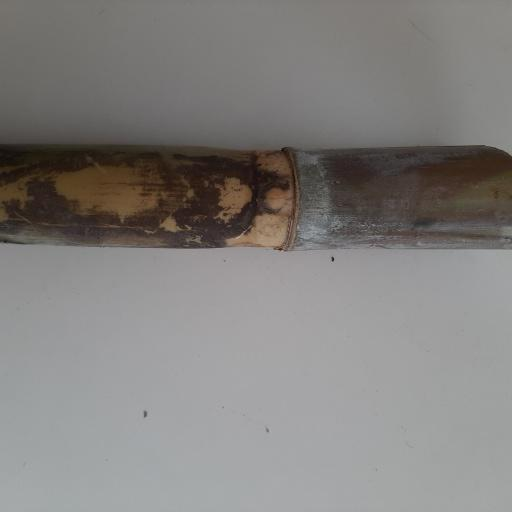Bud: (260, 186, 289, 212)
